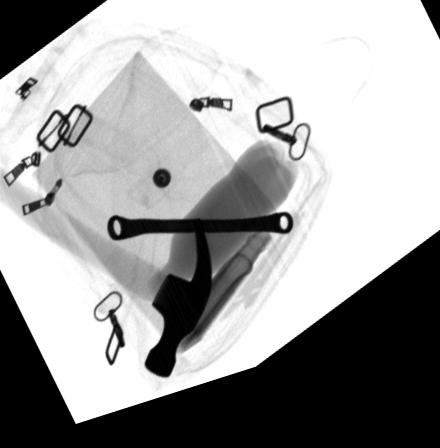Hammer: (0, 166, 212, 387)
Wrench: (109, 222, 293, 251)
